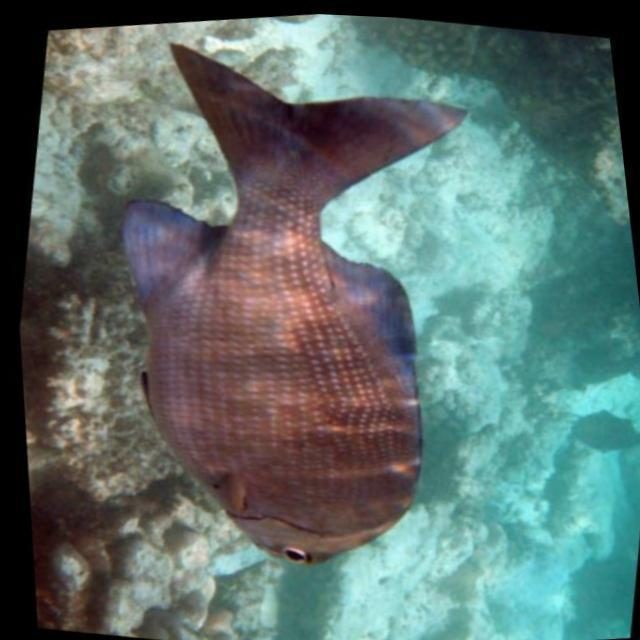Dead Coral: (16, 430, 261, 640)
